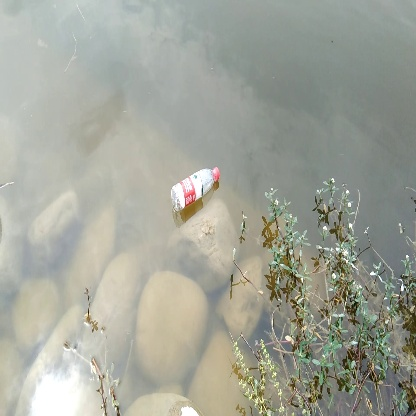bottle: (169, 166, 222, 215)
